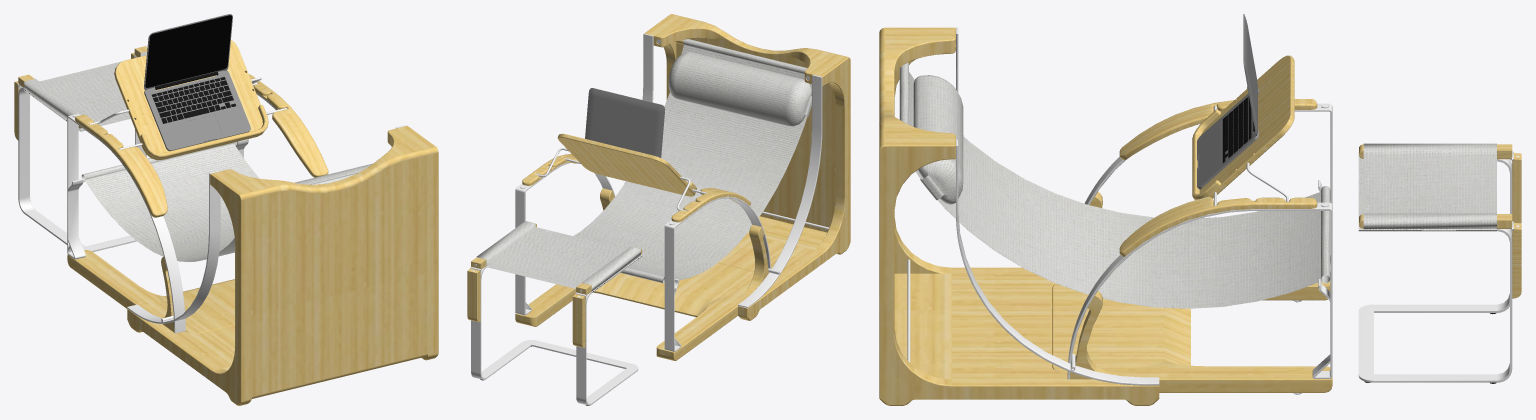
Rendered from zenic.gltf.
The picture shows the model from 3 angles, left to right: view 1: azimuth 30°, elevation 25°; view 2: azimuth 150°, elevation 25°; view 3: azimuth 270°, elevation 25°; orthographic projection. The views are drawn at different scales.
Visible parts, largest first — view 1: Zenic_Wood, Zenic_ColorAtlas, Zenic_Cloth; view 2: Zenic_Cloth, Zenic_Wood, Zenic_ColorAtlas; view 3: Zenic_Wood, Zenic_Cloth, Zenic_ColorAtlas.
Boxes of the visible parts, x1,y1,x2,y2 form: Zenic_Wood: (14,40,438,405); Zenic_ColorAtlas: (17,14,406,333); Zenic_Cloth: (24,51,372,261); Zenic_Cloth: (476,39,811,293); Zenic_Wood: (467,14,850,360); Zenic_ColorAtlas: (470,33,829,405); Zenic_Wood: (879,27,1521,405); Zenic_Cloth: (899,62,1496,308); Zenic_ColorAtlas: (907,14,1519,394).
Size of the model in its own units: 2.5 by 3.04 by 5.71.
